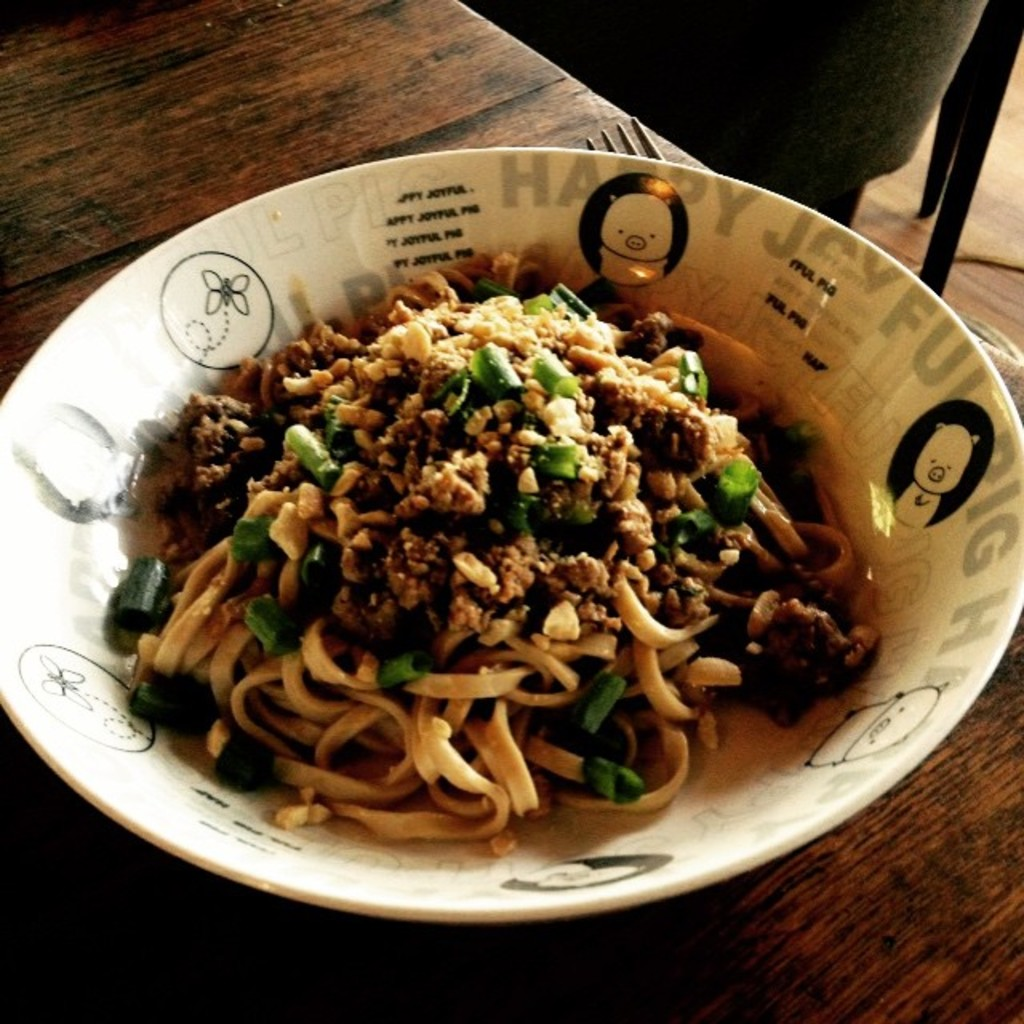pasta: (122, 248, 864, 843)
